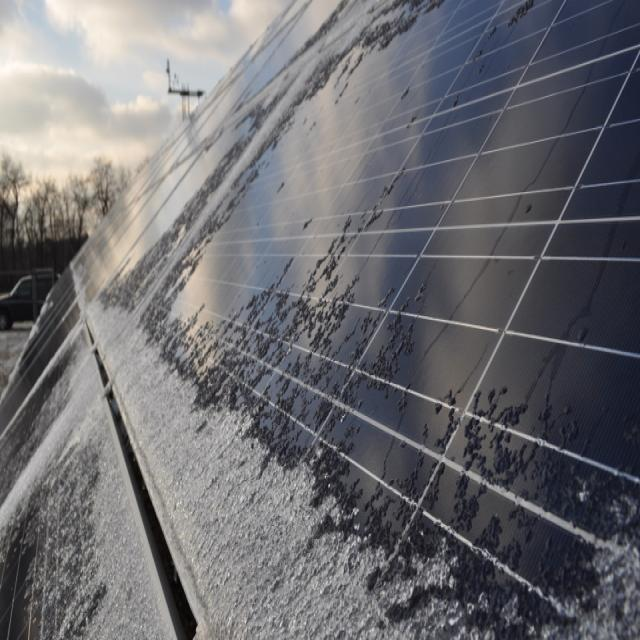snow covered: (83, 1, 636, 636)
